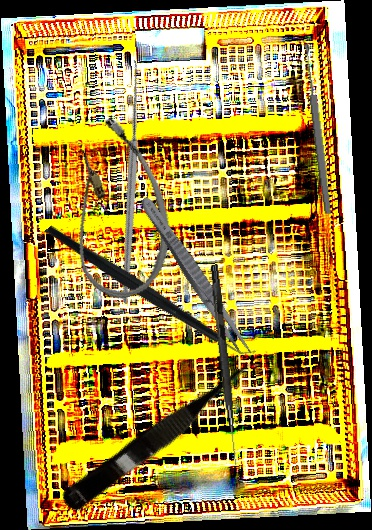Cannula: (44, 110, 187, 307)
Chopper: (43, 169, 261, 411)
Dressing Forceps: (135, 193, 257, 360)
Hook Surgical: (10, 53, 242, 306), (207, 264, 243, 466)
Micro Scissor: (58, 351, 267, 520)
Surgical Spoon: (301, 42, 334, 216)
